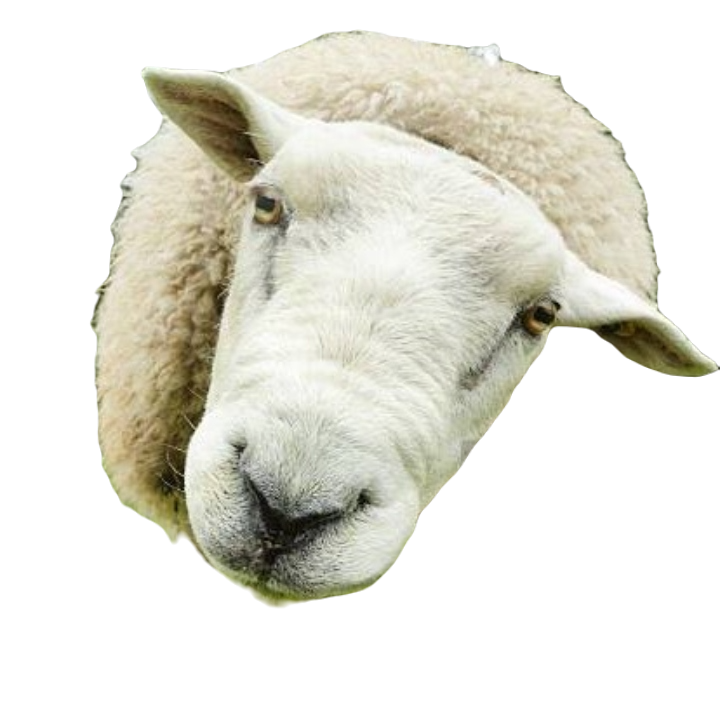Sheep: (80, 21, 719, 612)
